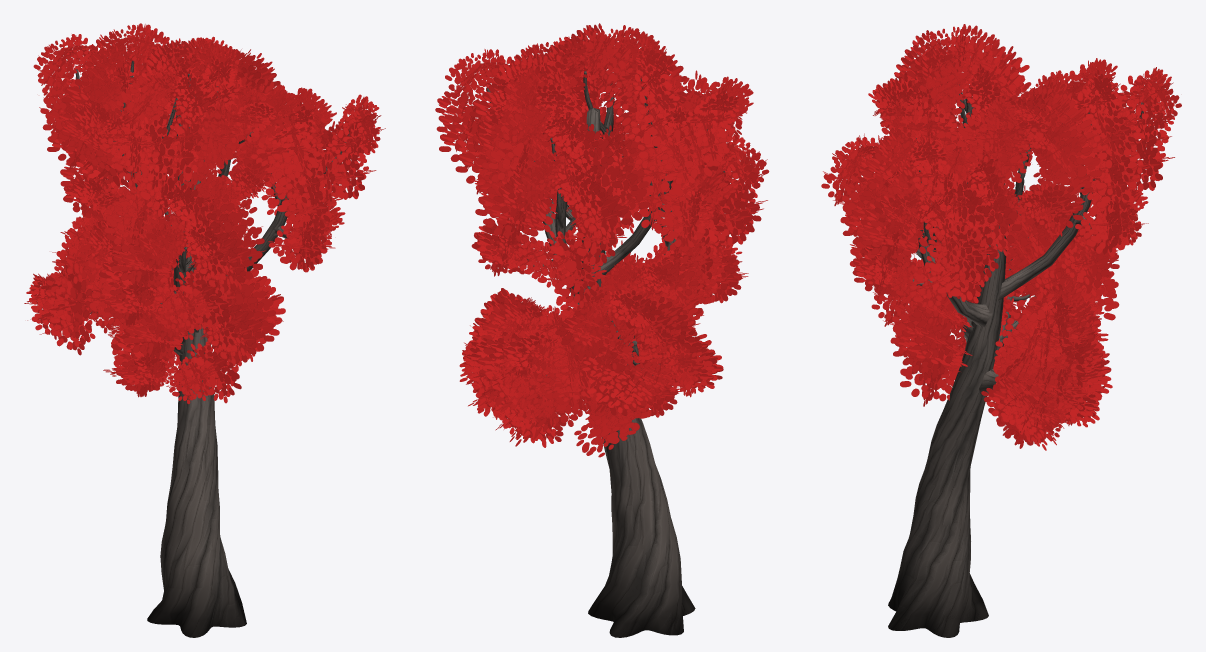
Rendered from TwistedTree_5.glb.
3 renders of one model, left to right at view 1: azimuth 30°, elevation 25°; view 2: azimuth 150°, elevation 25°; view 3: azimuth 270°, elevation 25°, orthographic. The views are drawn at different scales.
Bounding box in the file's own units: 9.5 × 15.66 × 9.39.
2 materials, 2 textured.
